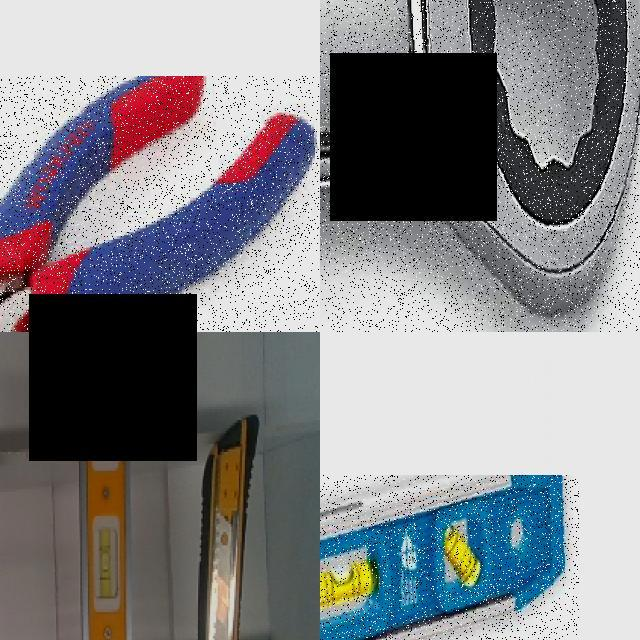estilete: (198, 416, 257, 639)
